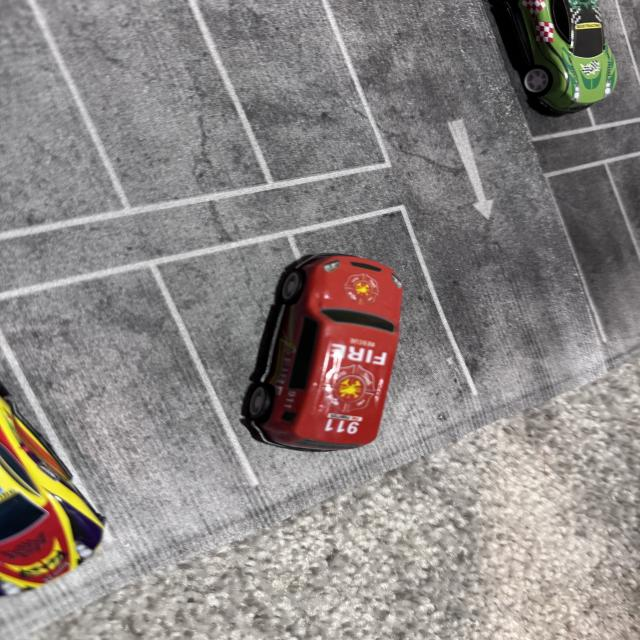car: (221, 213, 416, 524)
